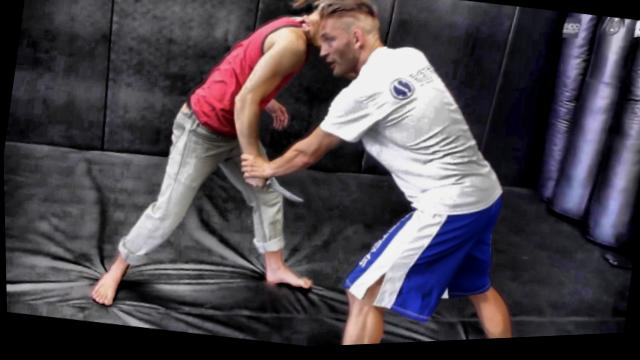knife: (232, 168, 311, 214)
